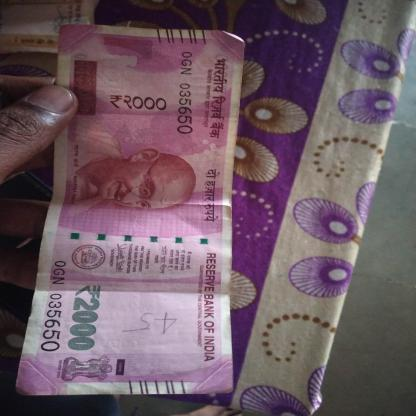New2000Front: (33, 25, 232, 394)
